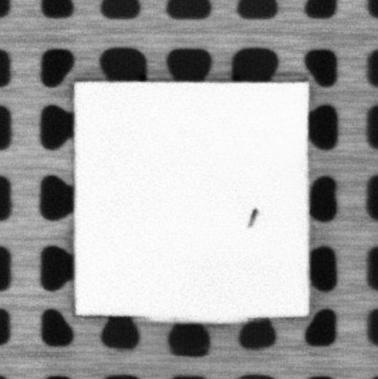DIE_INK: (245, 207, 260, 228)
